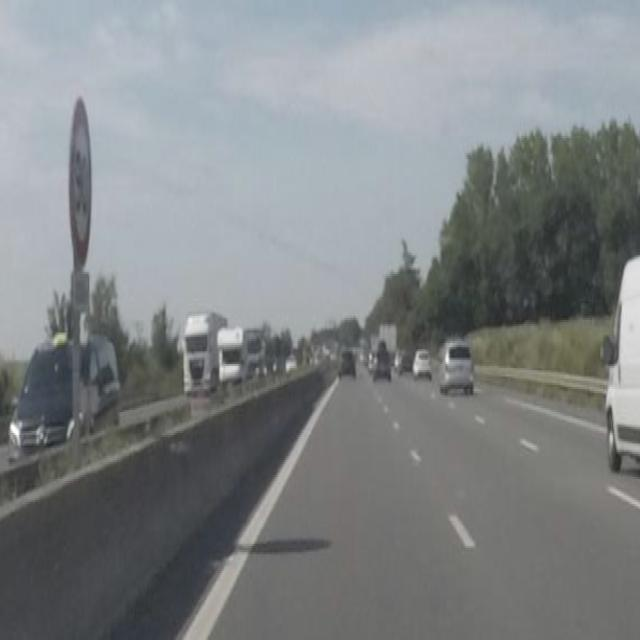speed_90: (71, 94, 92, 265)
